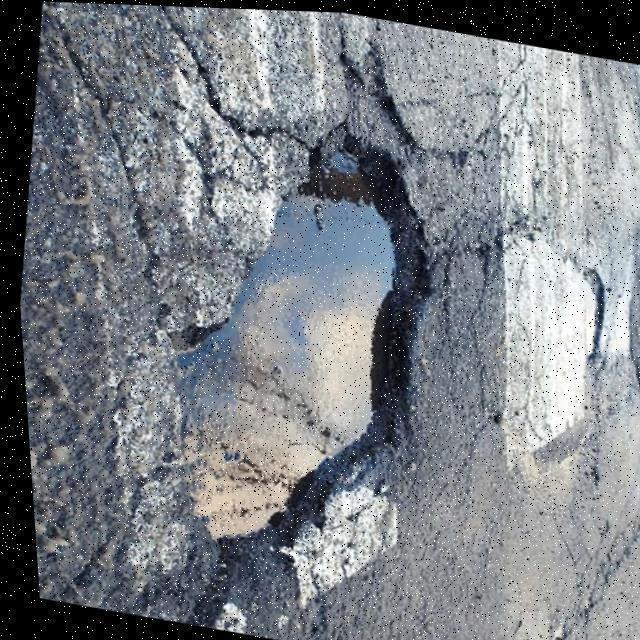Pothole: (169, 119, 435, 625)
